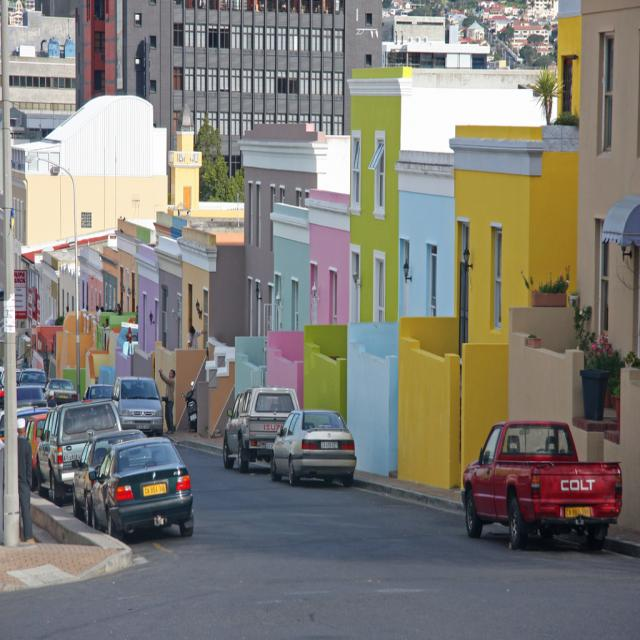car: (76, 428, 191, 542), (270, 407, 358, 488)
